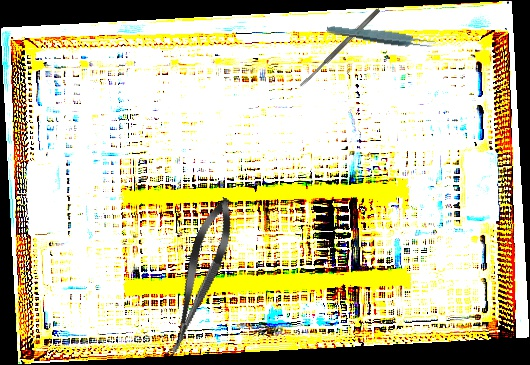Micro Scissor: (156, 193, 243, 362)
Spatula Surgical: (297, 7, 382, 89)
Tissue Forceps: (325, 22, 437, 52)
